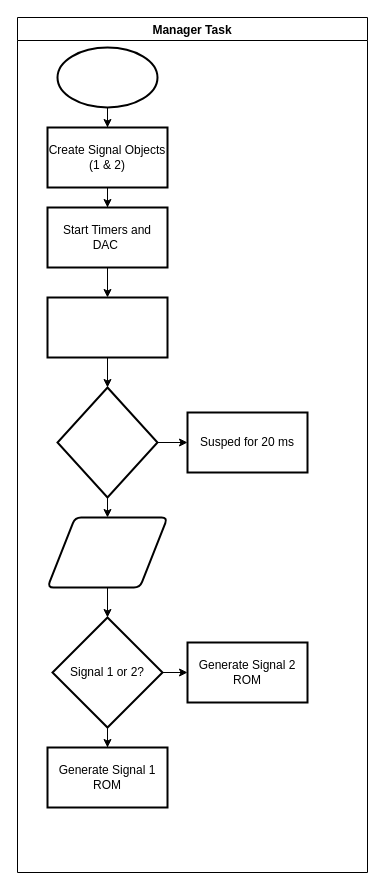
The diagram is 385 pixels wide and 890 high, and some of its shapes have lost their labels. Here are the shapes that lost their labels. From the top down, the box of each, then its label:
(56, 46, 158, 108): Task Creation
(46, 296, 168, 358): Create Reader Task
(56, 386, 158, 498): Wait for cmd flg
(46, 516, 168, 588): Get signal request from Queue
